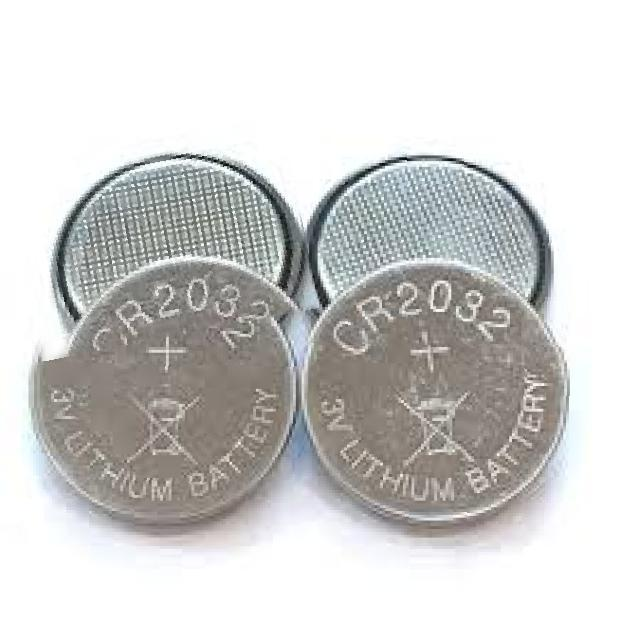Battery: (8, 122, 306, 554), (301, 132, 581, 564), (26, 250, 304, 520), (314, 265, 570, 526)
